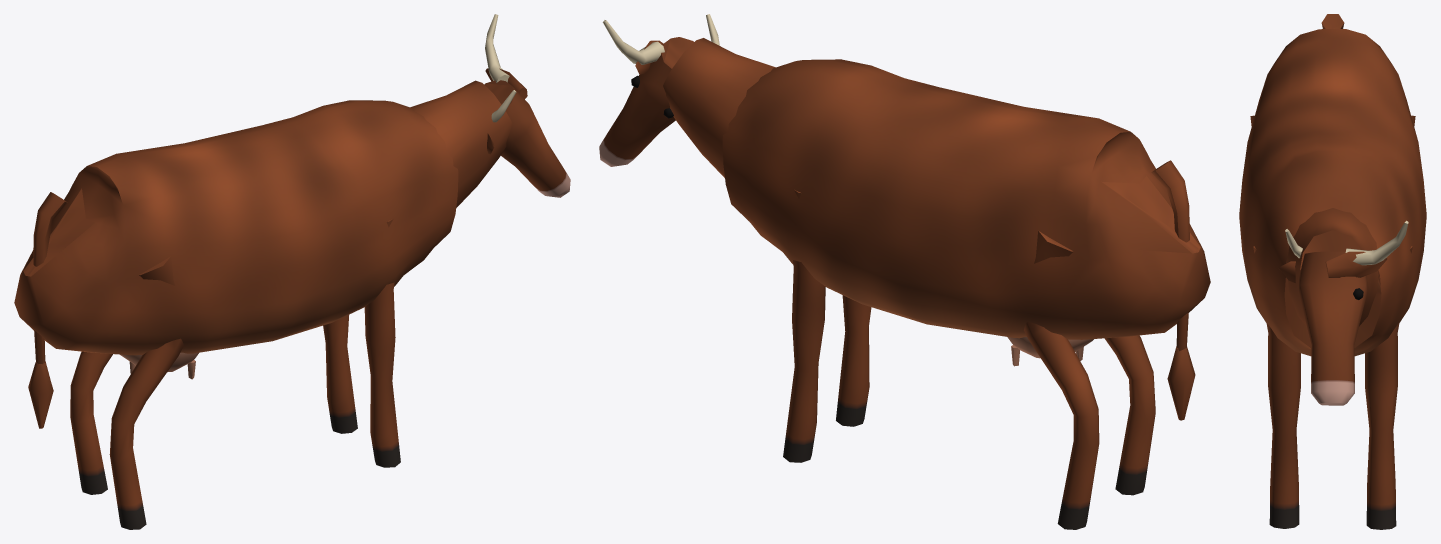
The model's file is tpl_life_stall_1175_cow_small_0_cattle_red_stand_h.glb.
3 renders of one model, left to right at view 1: azimuth 30°, elevation 25°; view 2: azimuth 150°, elevation 25°; view 3: azimuth 270°, elevation 25°, orthographic. The views are drawn at different scales.
Parts seen in each view (by area): view 1: tpl_life_stall_1175_cow_small_0_cattle_red_stand_h; view 2: tpl_life_stall_1175_cow_small_0_cattle_red_stand_h; view 3: tpl_life_stall_1175_cow_small_0_cattle_red_stand_h.
Part boxes in pixels (x1,y1,x2,y2): tpl_life_stall_1175_cow_small_0_cattle_red_stand_h: (14,14,570,529); tpl_life_stall_1175_cow_small_0_cattle_red_stand_h: (599,14,1210,529); tpl_life_stall_1175_cow_small_0_cattle_red_stand_h: (1239,14,1426,529).
Size of the model in its own units: 2.34 by 1.51 by 0.6588.
Materials: 3 (1 with a texture image).
